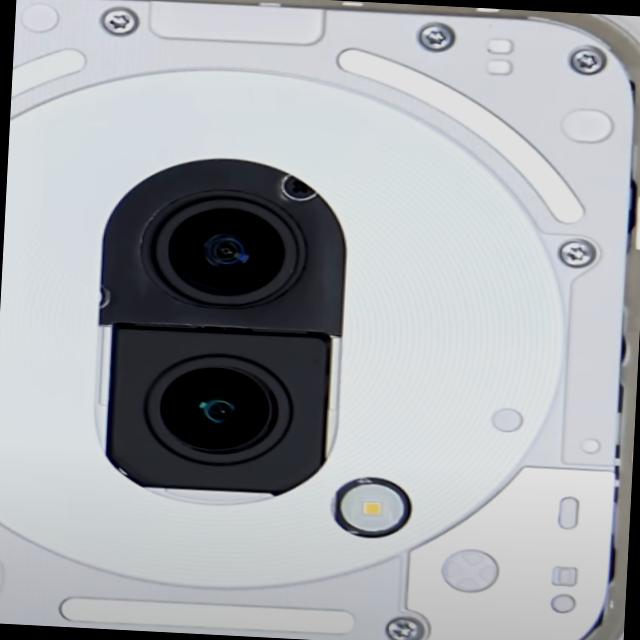Torx: (417, 22, 455, 52), (569, 46, 606, 75), (558, 240, 594, 268), (384, 616, 425, 640), (104, 9, 138, 34)
